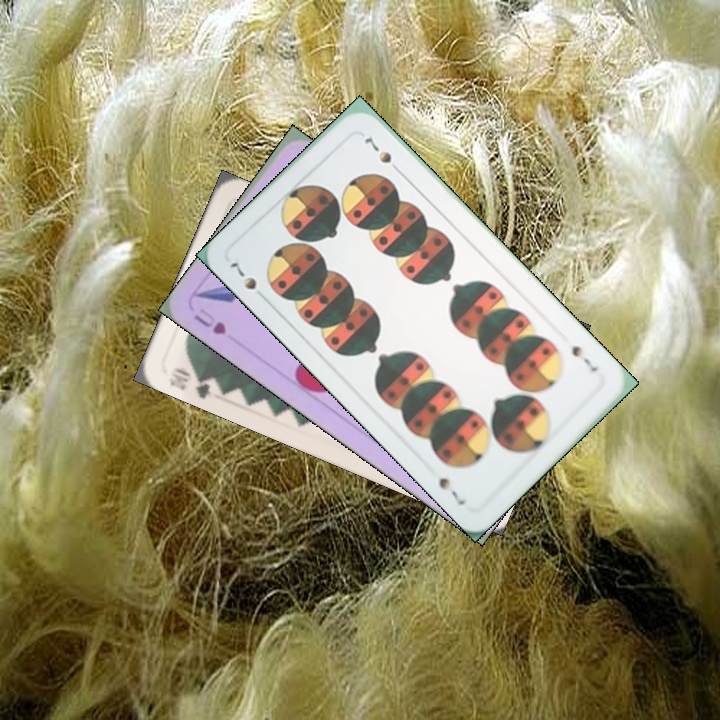G10: (164, 363, 215, 401)
HU: (189, 304, 229, 338)
S7: (225, 258, 270, 304), (566, 338, 601, 375)
